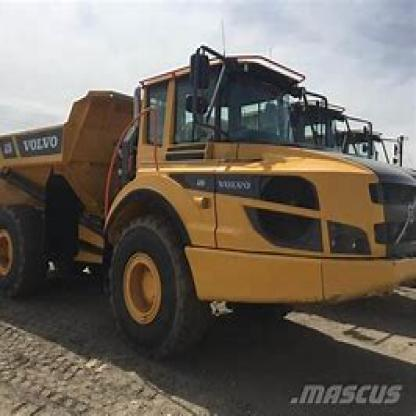dump_truck: (0, 38, 414, 347)
